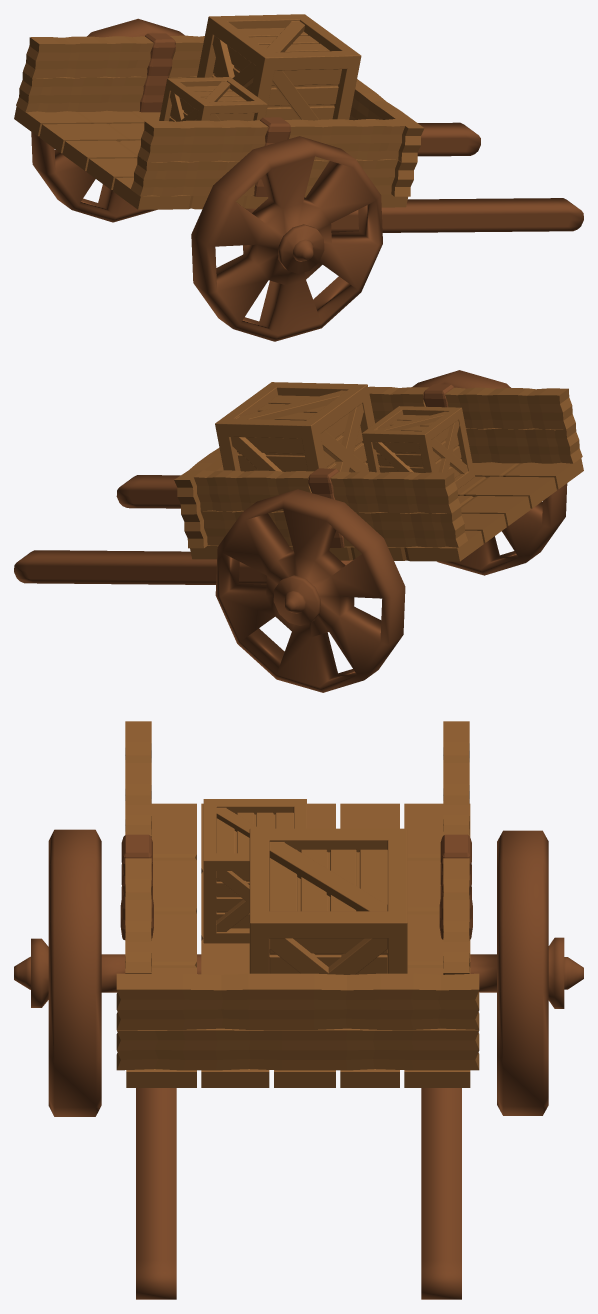
File: carro2.fbx
The picture shows the model from 3 angles, top to bottom: view 1: azimuth 30°, elevation 25°; view 2: azimuth 150°, elevation 25°; view 3: azimuth 270°, elevation 25°; orthographic projection. The views are drawn at different scales.
Parts seen in each view (by area): view 1: Cube.001; view 2: Cube.001; view 3: Cube.001.
Part boxes in pixels (x1,y1,x2,y2): Cube.001: (14, 14, 583, 341); Cube.001: (14, 370, 583, 692); Cube.001: (14, 721, 583, 1299).
Size of the model in its own units: 835 by 388 by 662.
